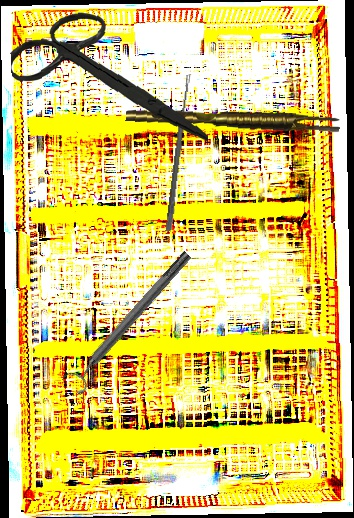Fixation Ring: (59, 245, 200, 397)
Iris Scissors: (8, 6, 209, 154)
Surgical Spoon: (165, 73, 192, 232)
Tissue Forceps: (125, 98, 341, 140)
